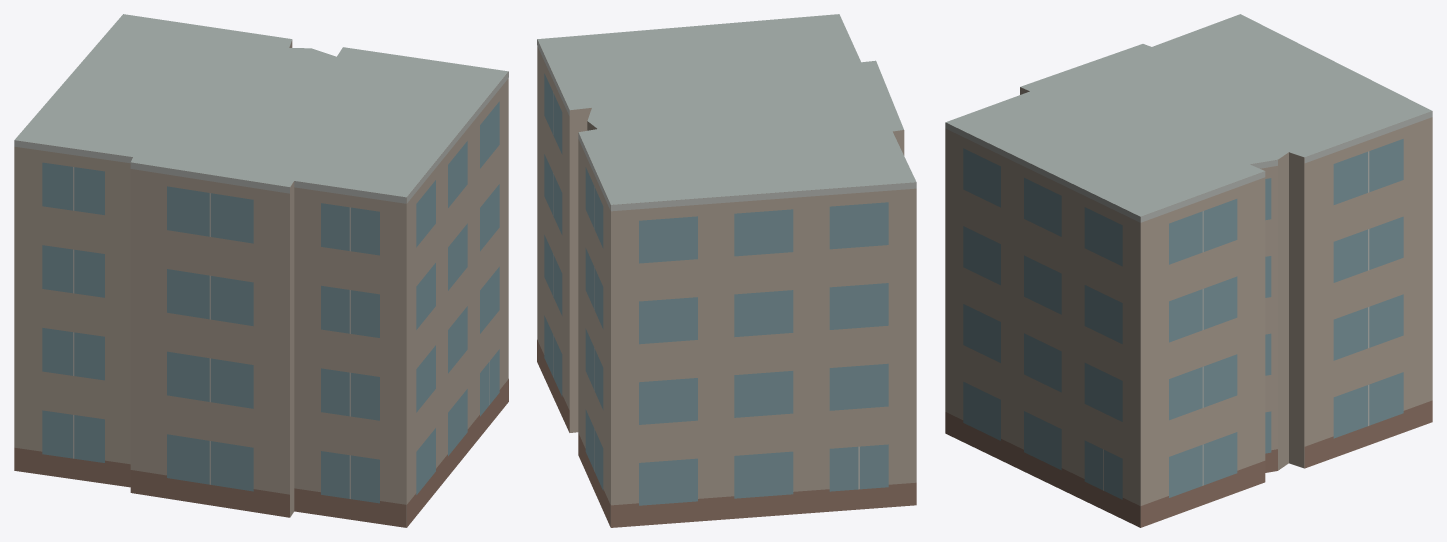
Rendered from survey-upis-33044143.glb.
3 renders of one model, left to right at view 1: azimuth 30°, elevation 25°; view 2: azimuth 150°, elevation 25°; view 3: azimuth 270°, elevation 25°, orthographic. The views are drawn at different scales.
Parts seen in each view (by area): view 1: survey-upis-33044143.tmp; view 2: survey-upis-33044143.tmp; view 3: survey-upis-33044143.tmp.
Boxes of the visible parts, x1=… form: survey-upis-33044143.tmp: x1=14, y1=14, x2=508, y2=527; survey-upis-33044143.tmp: x1=537, y1=14, x2=916, y2=527; survey-upis-33044143.tmp: x1=945, y1=14, x2=1432, y2=527.
Bounding box in the file's own units: 17.34 × 12.4 × 17.6.
